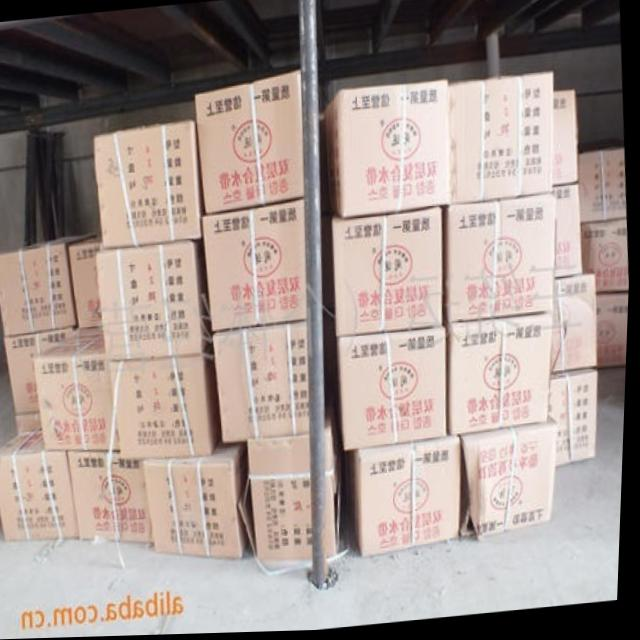box: (324, 83, 452, 220), (195, 71, 304, 214), (98, 239, 219, 362), (443, 195, 557, 325), (95, 120, 207, 250), (333, 209, 445, 338), (448, 74, 554, 207), (203, 200, 309, 333), (354, 434, 464, 559), (340, 326, 449, 452), (111, 340, 224, 461), (446, 315, 555, 438), (146, 438, 253, 560), (463, 419, 562, 541), (216, 323, 312, 444), (37, 328, 123, 451), (0, 232, 98, 336), (0, 429, 84, 542), (250, 436, 316, 561), (70, 451, 158, 543), (7, 326, 76, 414), (552, 372, 599, 470), (553, 277, 599, 376), (580, 152, 628, 227), (583, 222, 631, 297), (70, 233, 105, 328), (554, 186, 585, 281), (554, 93, 580, 187), (599, 296, 631, 372)
